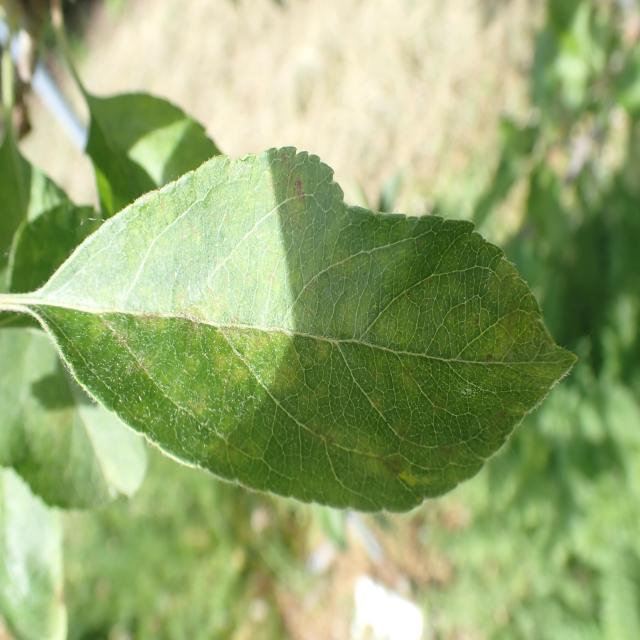scab: (31, 141, 592, 515)
